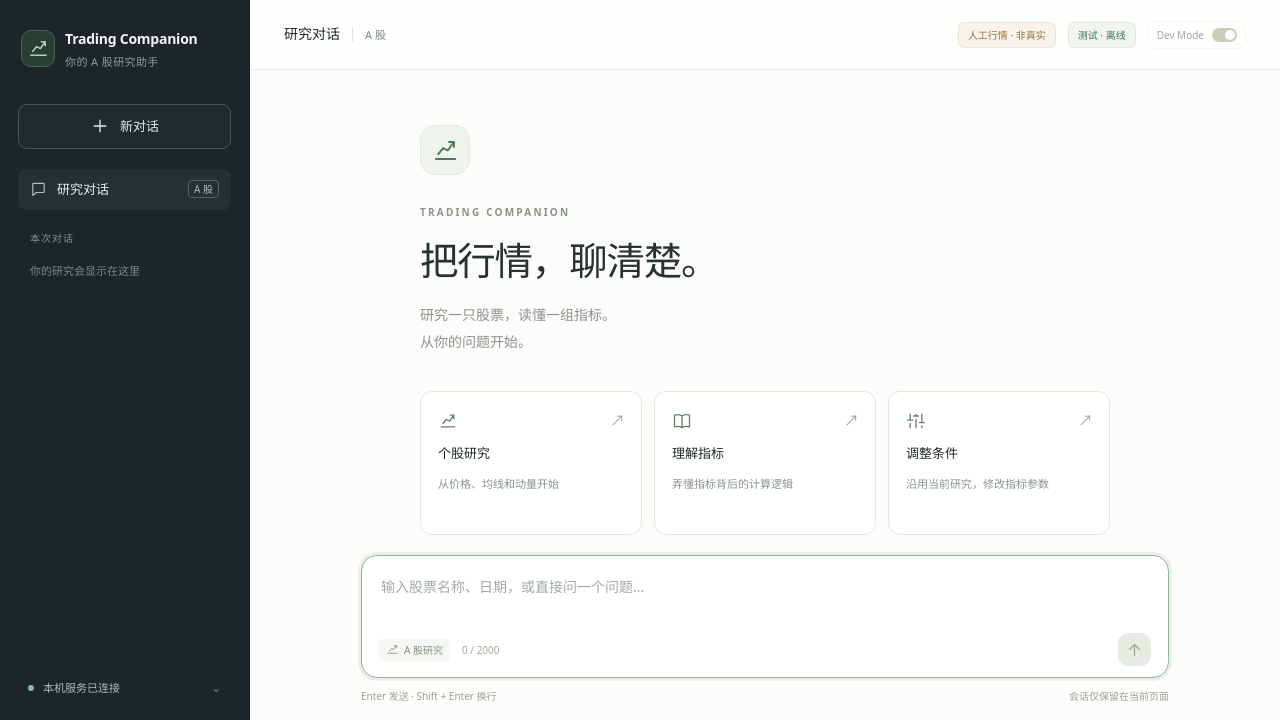
Scenario: conversation-first workspace › omits retired research attachments and execution diagnostics
The width and height of the screenshot is (1280, 720).
Type "分析平安银行" into the text box named "研究问题". click: point(765, 599)
box: [379,572,1151,626]
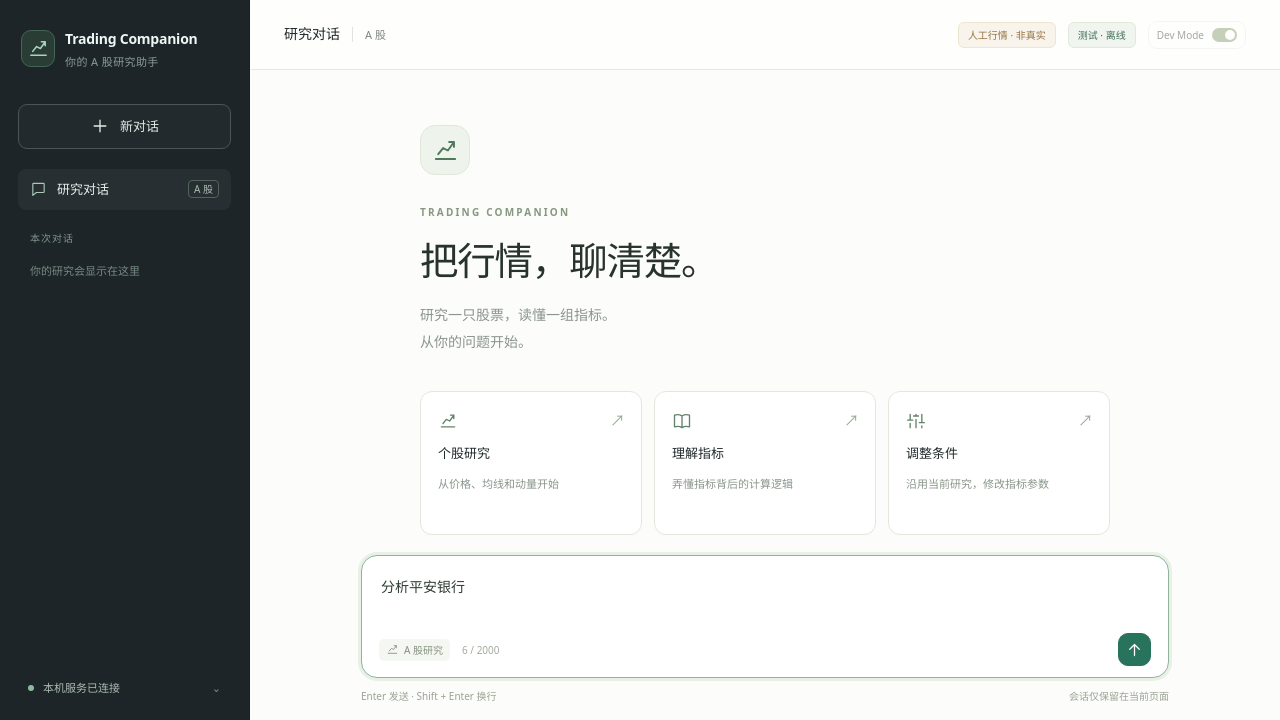
Press Enter in the text box named "研究问题", box [379,572,1151,626]
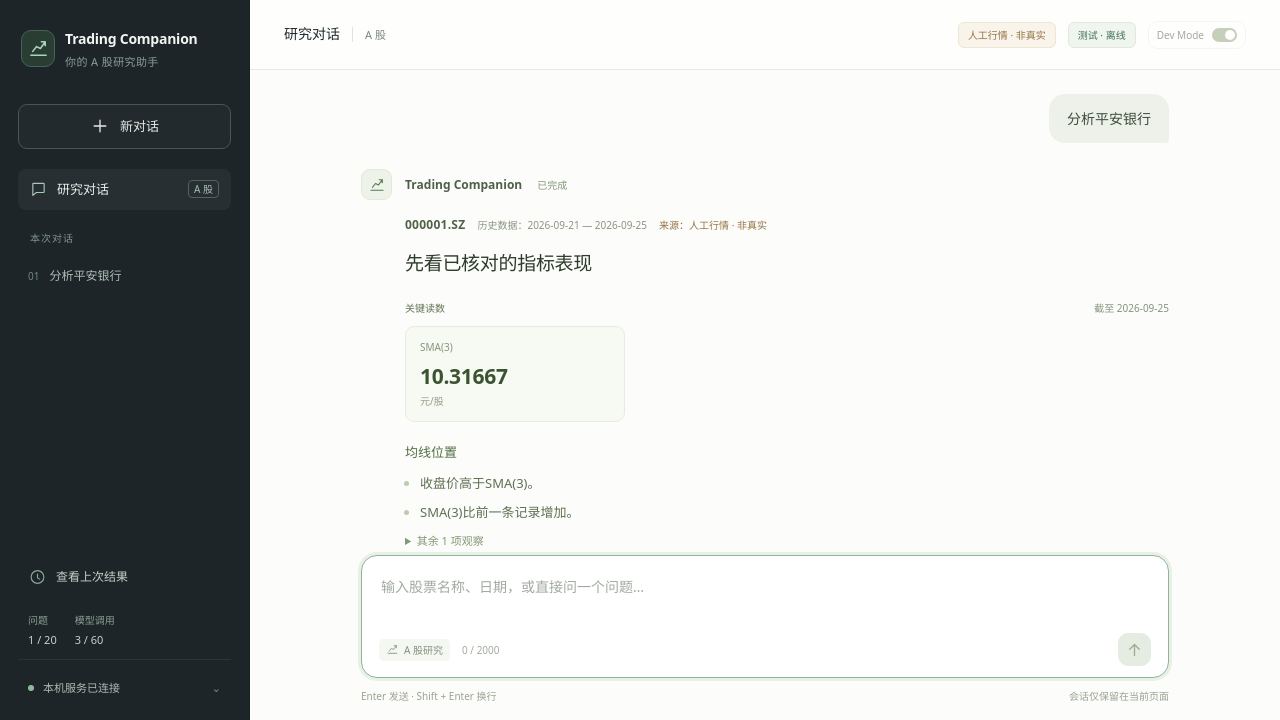
Result: the heading "先看已核对的指标表现" is shown at [405,250,592,276]
